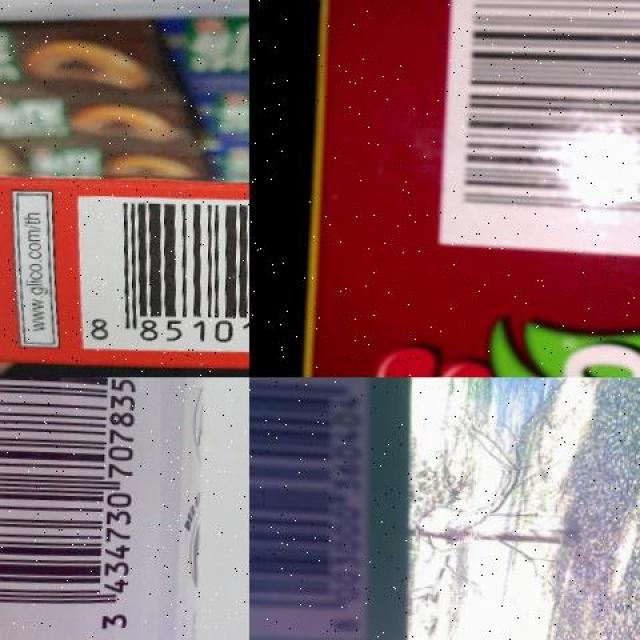Barcode: (440, 0, 640, 256), (0, 377, 169, 637), (249, 377, 368, 639), (88, 187, 249, 360)
